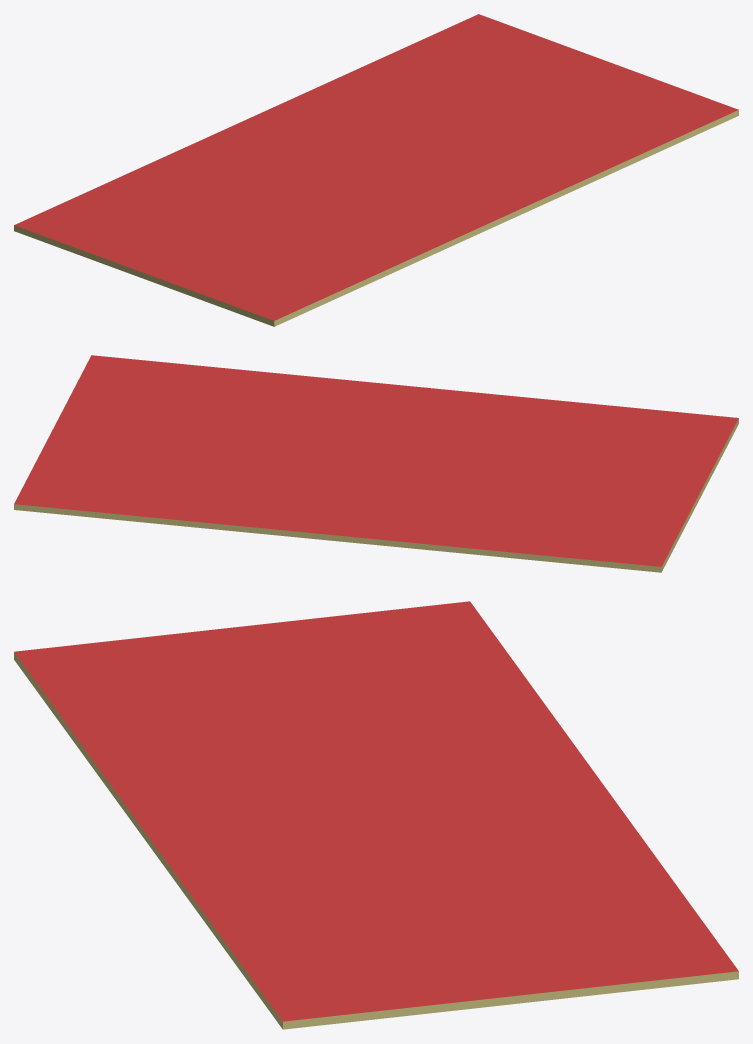
3 views of the same model, one above another, from view 1: azimuth 30°, elevation 25°; view 2: azimuth 150°, elevation 25°; view 3: azimuth 270°, elevation 25° (orthographic). The views are drawn at different scales.
Bounding box in the file's own units: 11.53 × 8.23 × 0.21.
